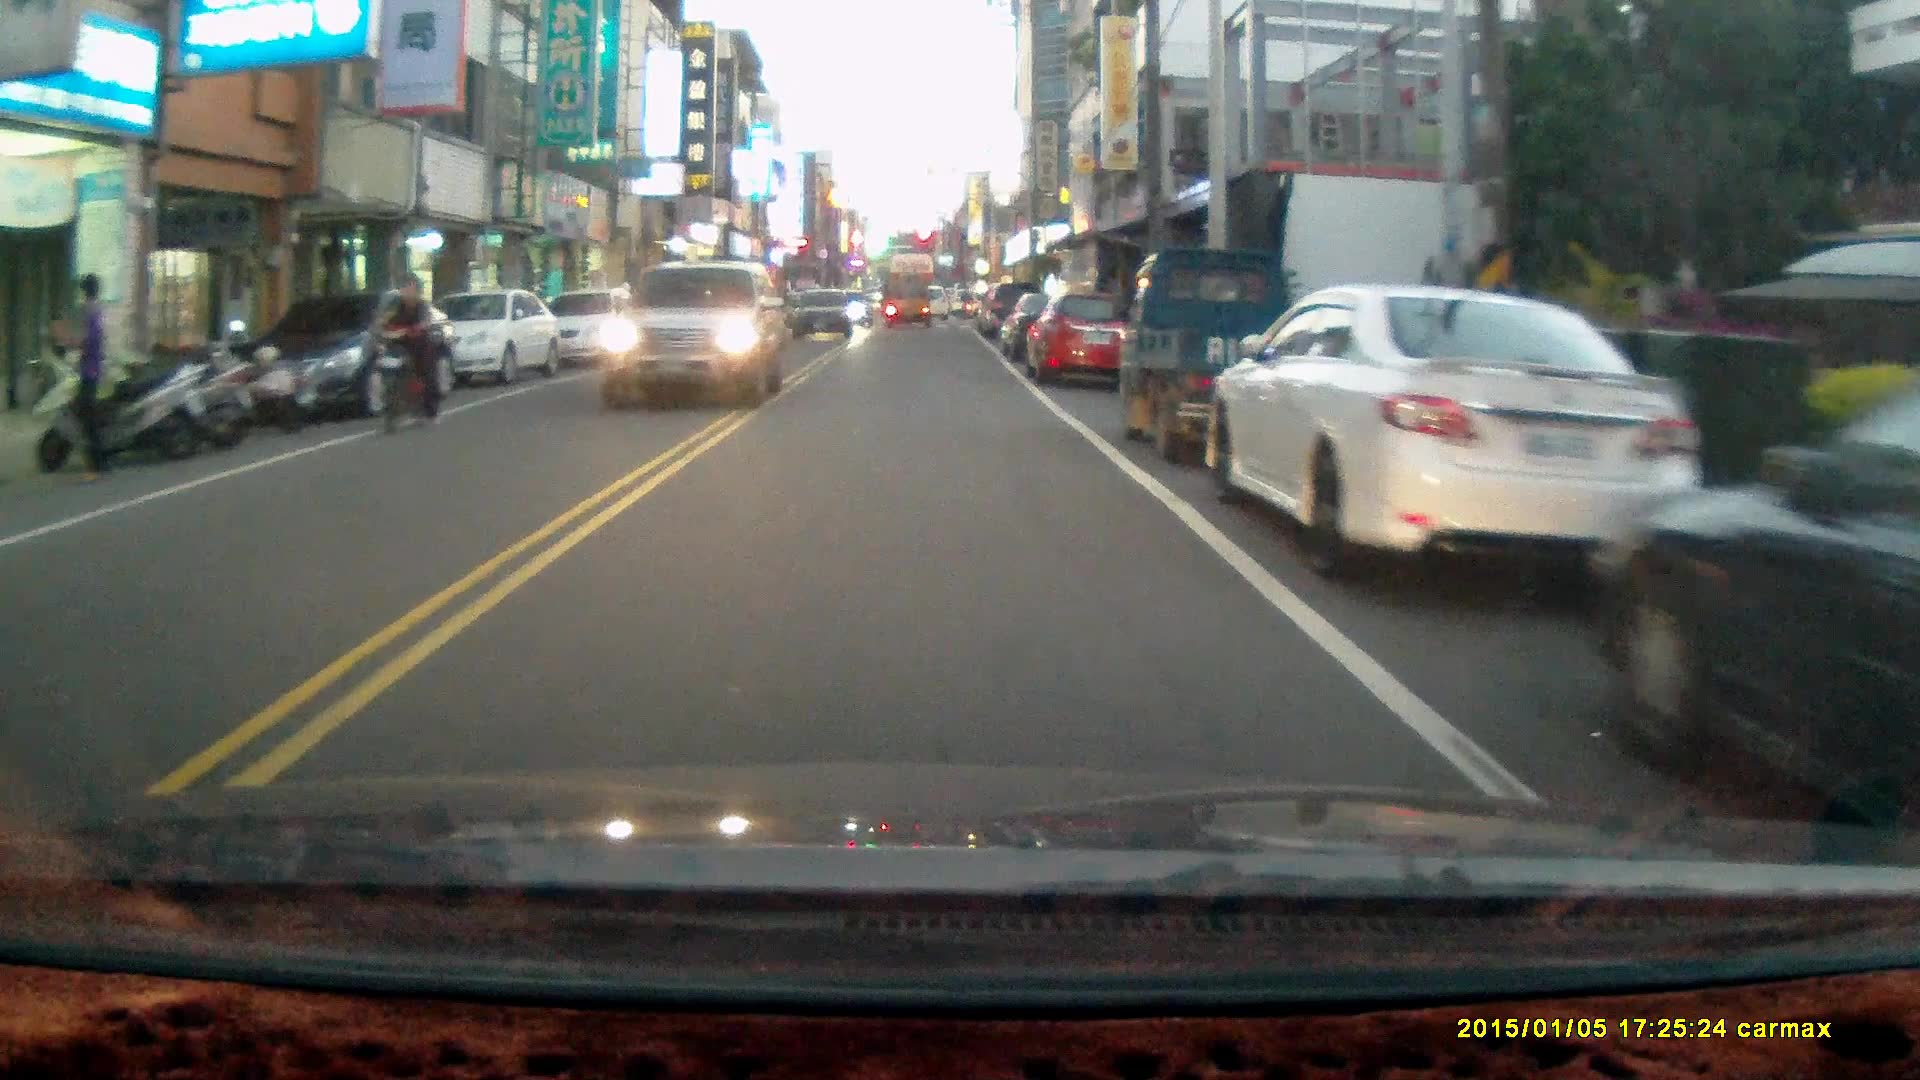pedestrian: (46, 271, 107, 489)
rider: (368, 271, 442, 434)
vehicle: (1199, 279, 1713, 592), (1600, 378, 1920, 852), (1120, 243, 1340, 468), (599, 257, 787, 417), (228, 285, 449, 419), (394, 288, 561, 392), (1030, 291, 1133, 392), (787, 290, 858, 342), (883, 275, 936, 332)
